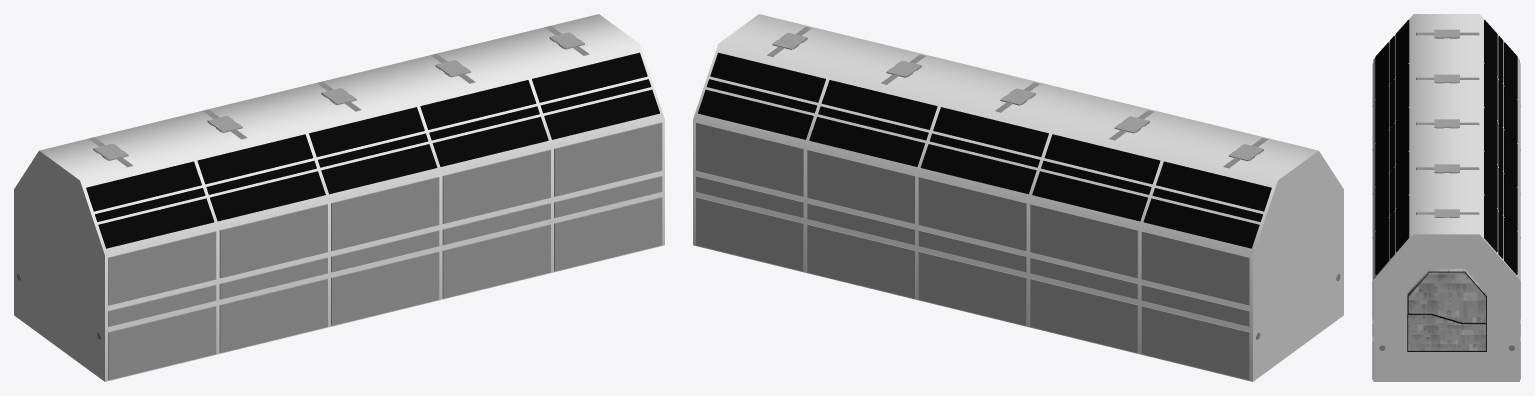
File: station inside.fbx
3 views of the same model, side by side, from view 1: azimuth 30°, elevation 25°; view 2: azimuth 150°, elevation 25°; view 3: azimuth 270°, elevation 25° (orthographic). The views are drawn at different scales.
Visible parts, largest first — view 1: Empty_Mesh_6, Empty_Mesh_5, Empty_Mesh_3, Empty_Mesh_2; view 2: Empty_Mesh_6, Empty_Mesh_5, Empty_Mesh_3, Empty_Mesh_2; view 3: Empty_Mesh_5, Empty_Mesh_3, Door_Top, Door_bottom, Empty_Mesh_2, Empty_Mesh_6.
Part boxes in pixels (<box>): Empty_Mesh_6: <box>108,122,662,380</box>; Empty_Mesh_5: <box>14,14,664,381</box>; Empty_Mesh_3: <box>86,52,659,248</box>; Empty_Mesh_2: <box>88,25,589,167</box>; Empty_Mesh_6: <box>696,122,1249,379</box>; Empty_Mesh_5: <box>693,14,1343,381</box>; Empty_Mesh_3: <box>698,52,1271,248</box>; Empty_Mesh_2: <box>767,26,1268,168</box>; Empty_Mesh_5: <box>1373,14,1519,381</box>; Empty_Mesh_3: <box>1375,20,1517,274</box>; Door_Top: <box>1407,269,1486,323</box>; Door_bottom: <box>1407,314,1486,351</box>; Empty_Mesh_2: <box>1416,29,1479,217</box>; Empty_Mesh_6: <box>1372,63,1520,379</box>.
Bounding box in the file's own units: 5220 × 1620 × 1468.
Materials: 15 (2 with a texture image).
